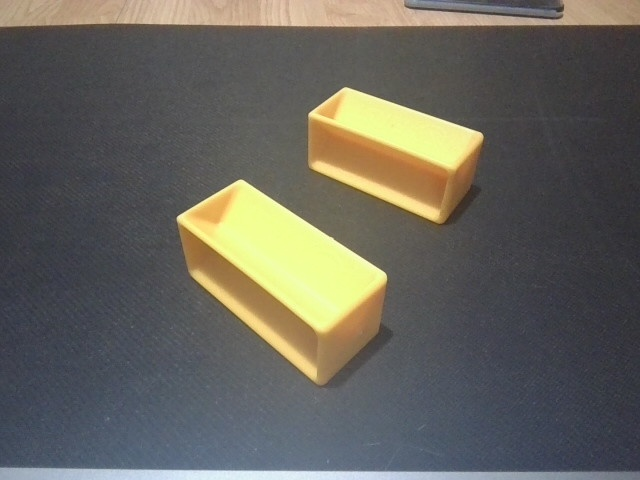YellowSample: (169, 177, 392, 390), (304, 82, 488, 230)
